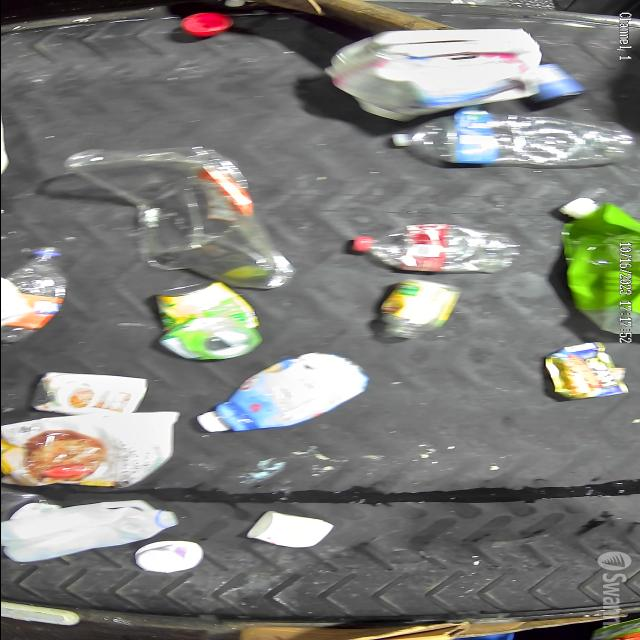can: (143, 282, 265, 359), (31, 372, 157, 420), (529, 59, 585, 109)
milk_jug: (313, 28, 539, 120), (0, 497, 182, 562)
non_white_jug: (553, 192, 640, 334)
plastic_bottle: (374, 112, 632, 164), (350, 226, 516, 275), (0, 242, 75, 344)
